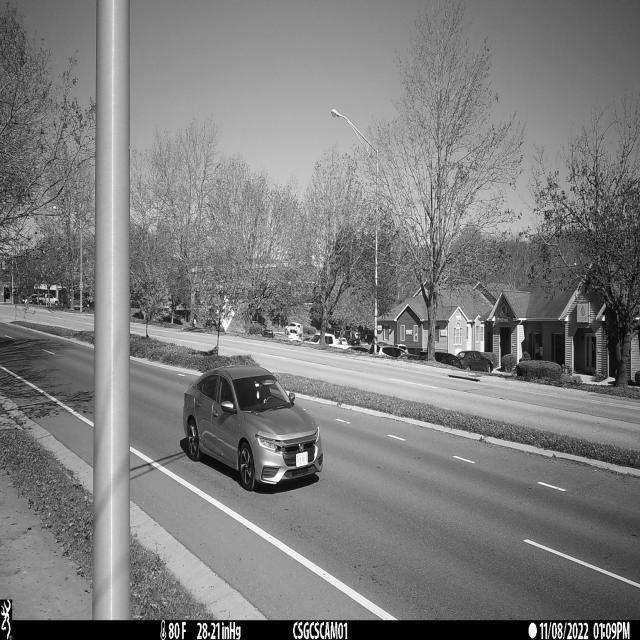Sedan: (183, 366, 323, 491)
